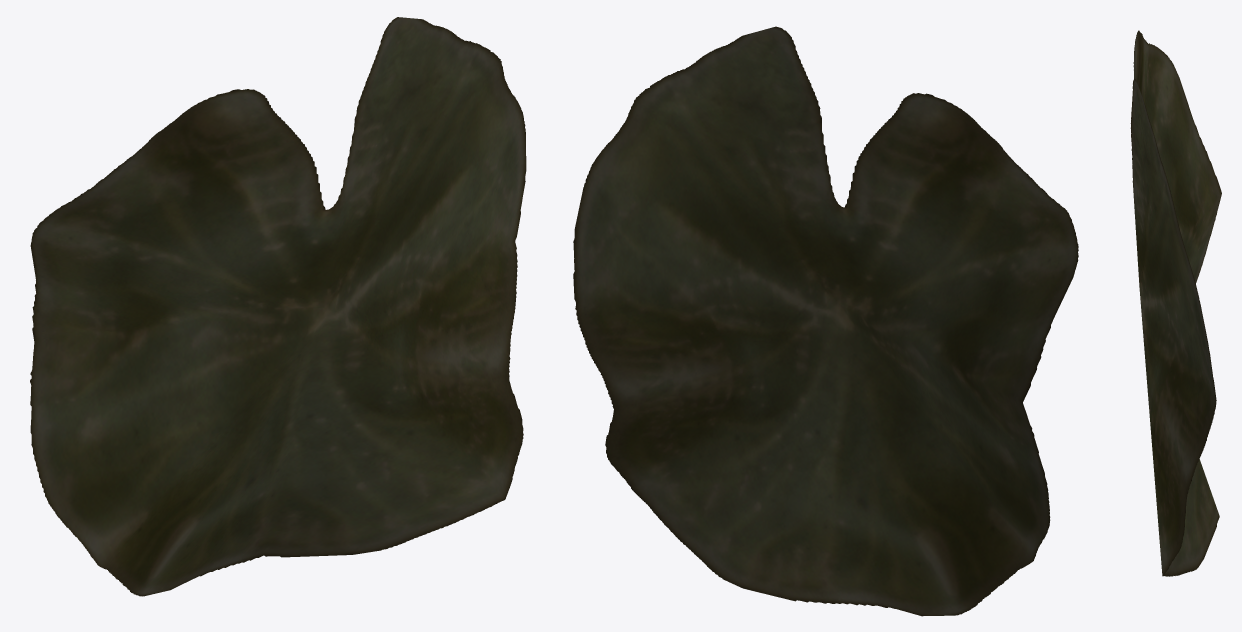
Rendered from TI_WaterLily_leaf_02_2S.fbx.
3 views of the same model, side by side, from view 1: azimuth 30°, elevation 25°; view 2: azimuth 150°, elevation 25°; view 3: azimuth 270°, elevation 25° (orthographic). The views are drawn at different scales.
Visible parts, largest first — view 1: TI_WaterLily_leaf_02_2S; view 2: TI_WaterLily_leaf_02_2S; view 3: TI_WaterLily_leaf_02_2S.
Part boxes in pixels (x1=…): TI_WaterLily_leaf_02_2S: x1=30, y1=17, x2=526, y2=596; TI_WaterLily_leaf_02_2S: x1=573, y1=26, x2=1078, y2=616; TI_WaterLily_leaf_02_2S: x1=1130, y1=30, x2=1221, y2=576.
Bounding box in the file's own units: 0.6281 × 0.6675 × 0.1254.
